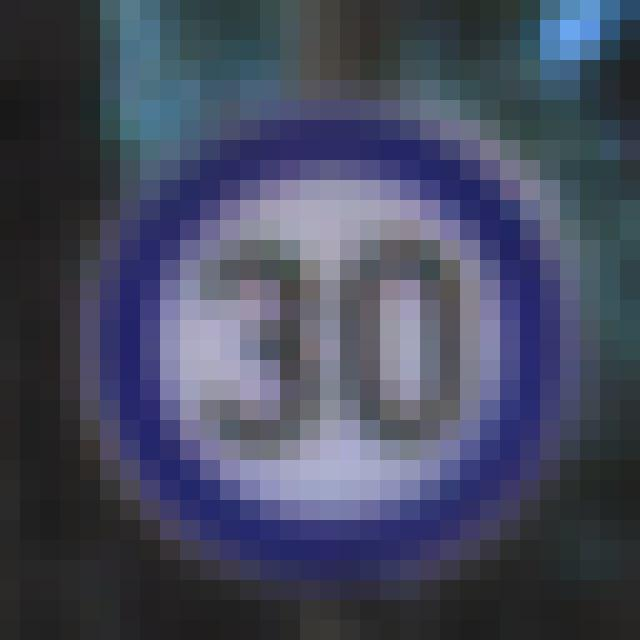SPEED LIMIT 30: (81, 121, 584, 567)
